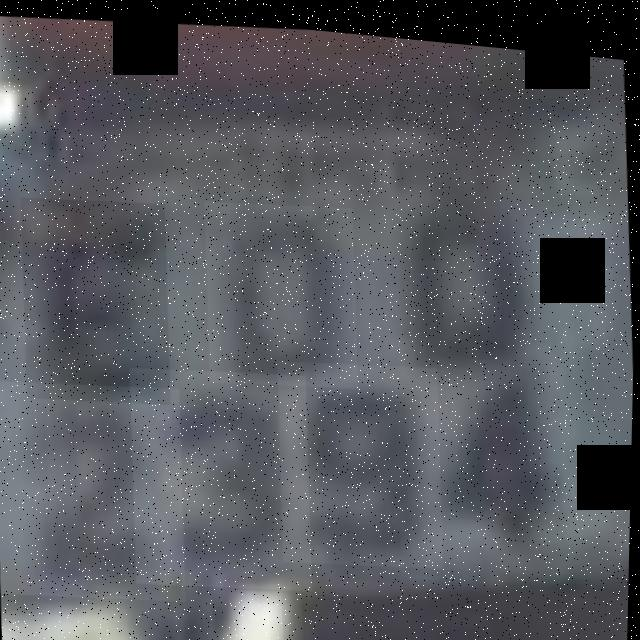2: (0, 371, 192, 608)
3: (128, 356, 318, 594)
4: (427, 332, 588, 551)
9: (276, 348, 449, 568)
D: (381, 170, 554, 371), (202, 190, 362, 389)
E: (18, 190, 176, 409)
